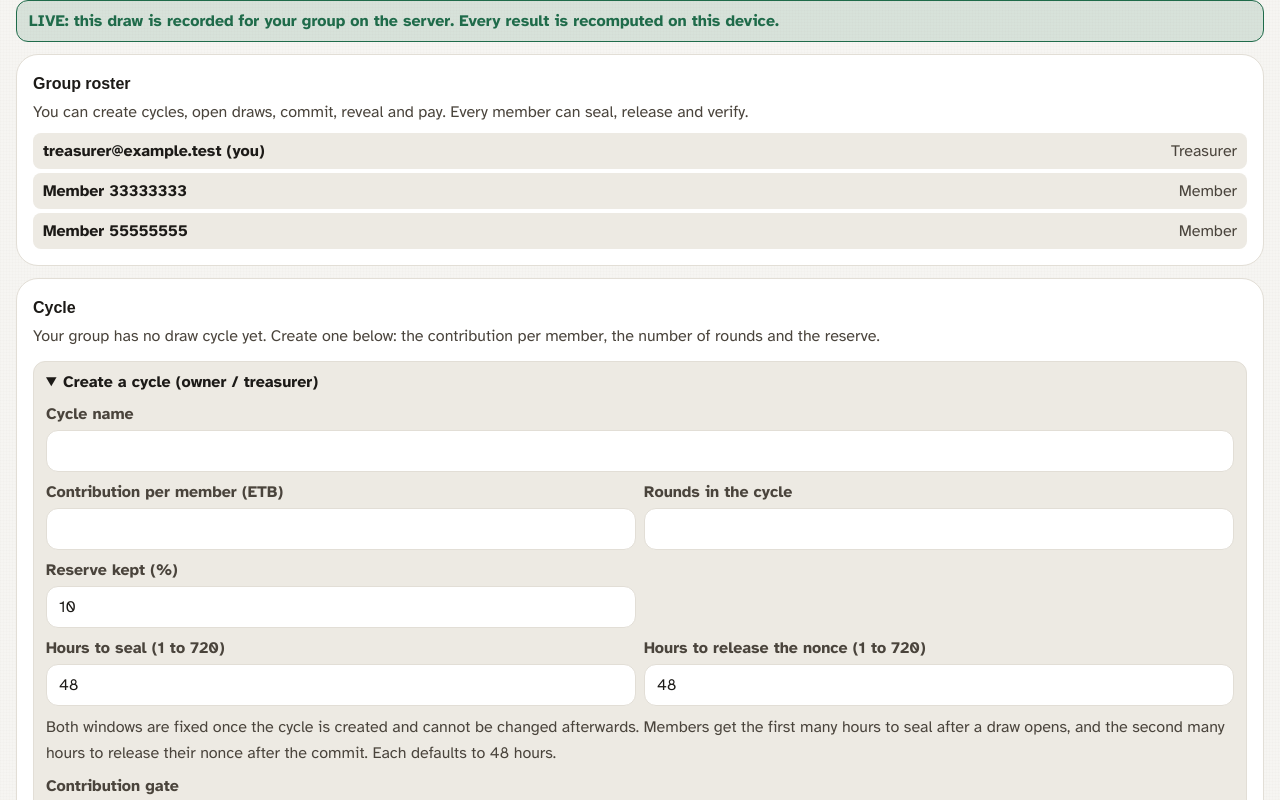
Test: signed in: cycles › lets the treasurer create a cycle and shows its terms, with the pot computed by the server
expect the text with test id "cycle-none" shows "Your group has no draw cycle yet": met, box top-left (33, 326), bottom-right (880, 346)
In the field labelled "Cycle name": (640,451) top-left (46, 430), bottom-right (1234, 472), type "Meskerem equb"
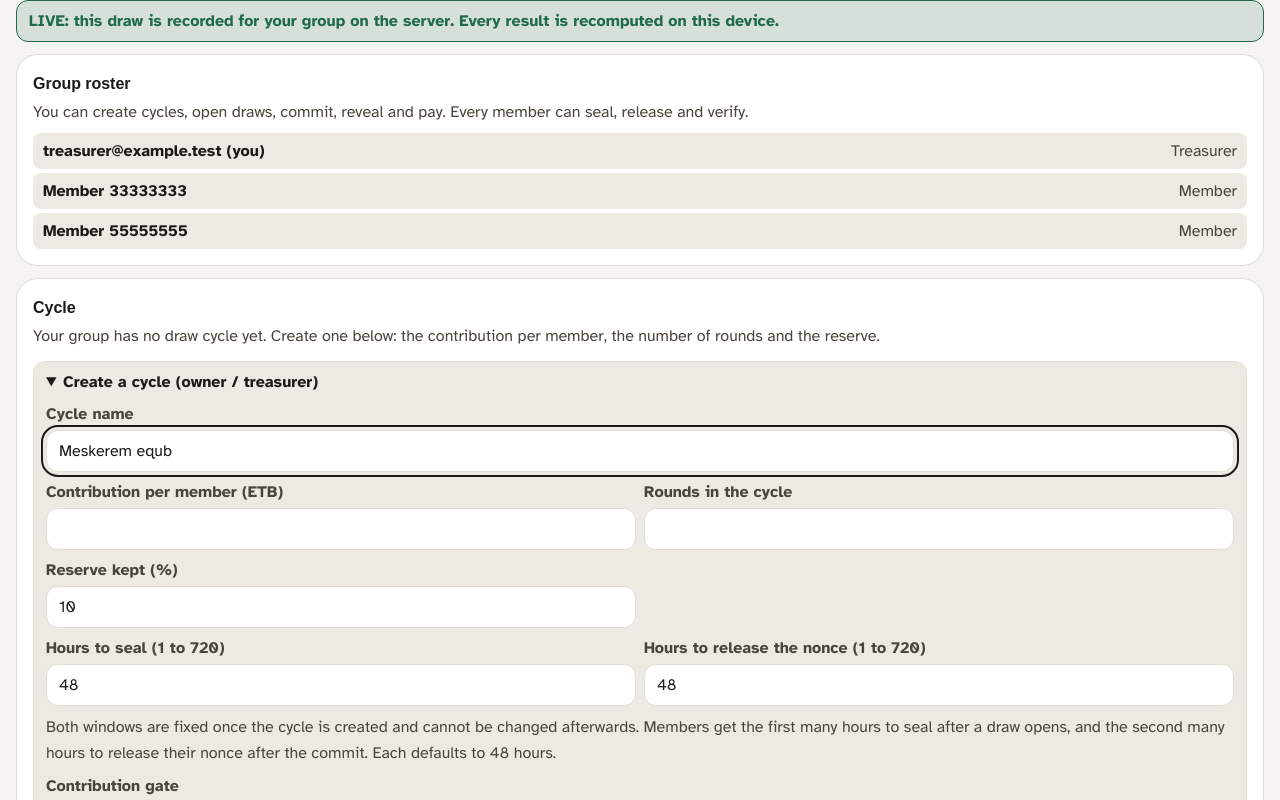
In the field labelled "Contribution per member (ETB)": (341,529) top-left (46, 508), bottom-right (636, 550), type "1000"
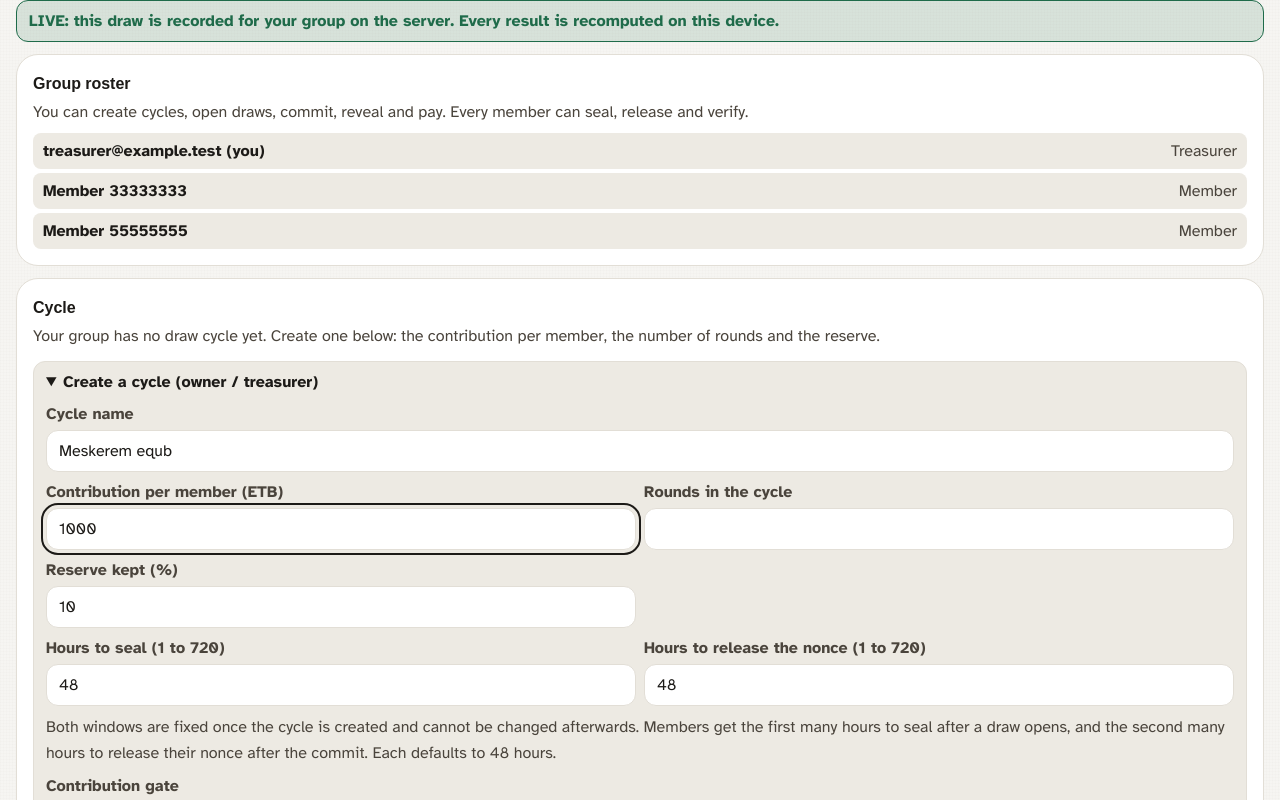
In the field labelled "Rounds in the cycle": (939,529) top-left (644, 508), bottom-right (1234, 550), type "3"
(page scrolled)
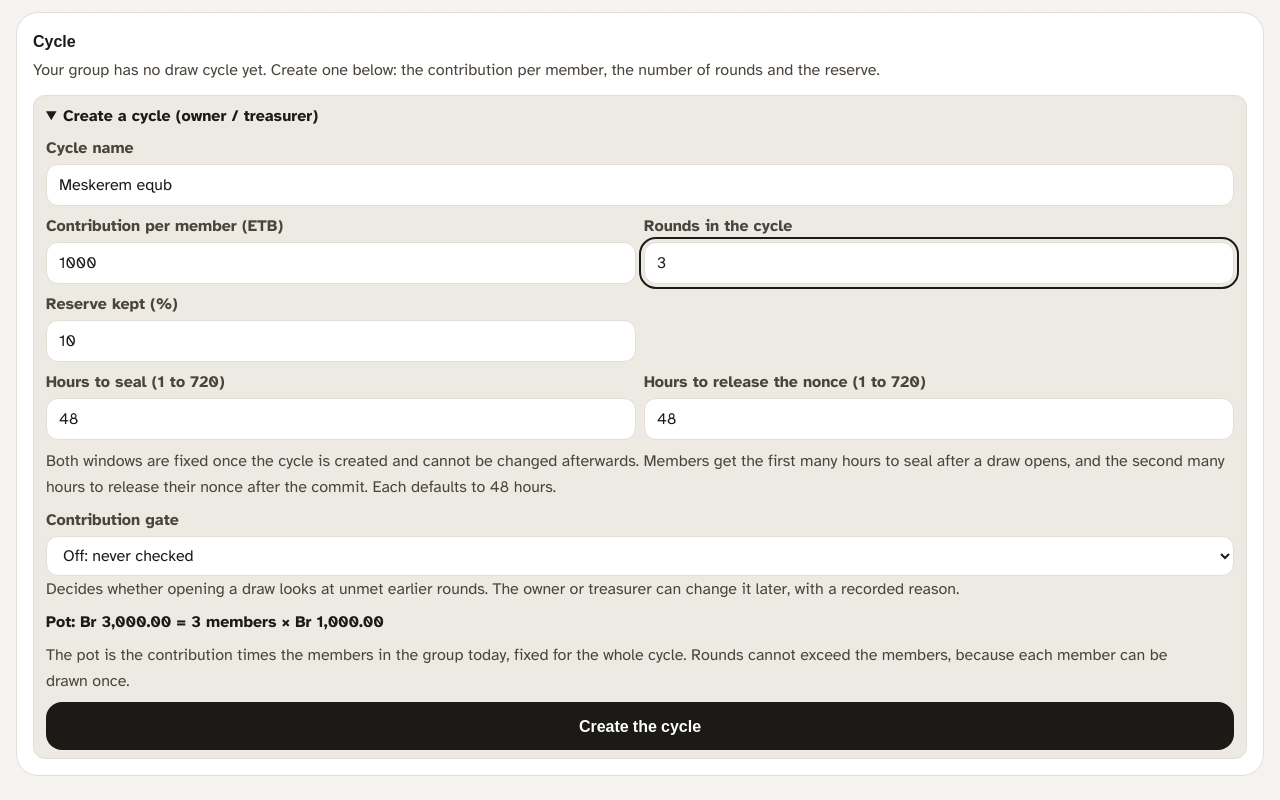
expect the text with test id "cycle-pot-preview" shows "Br 3,000.00 = 3 members × Br 1,000.00": met, box top-left (46, 612), bottom-right (384, 632)
Click the button "Create the cycle": (640,726) top-left (46, 702), bottom-right (1234, 750)
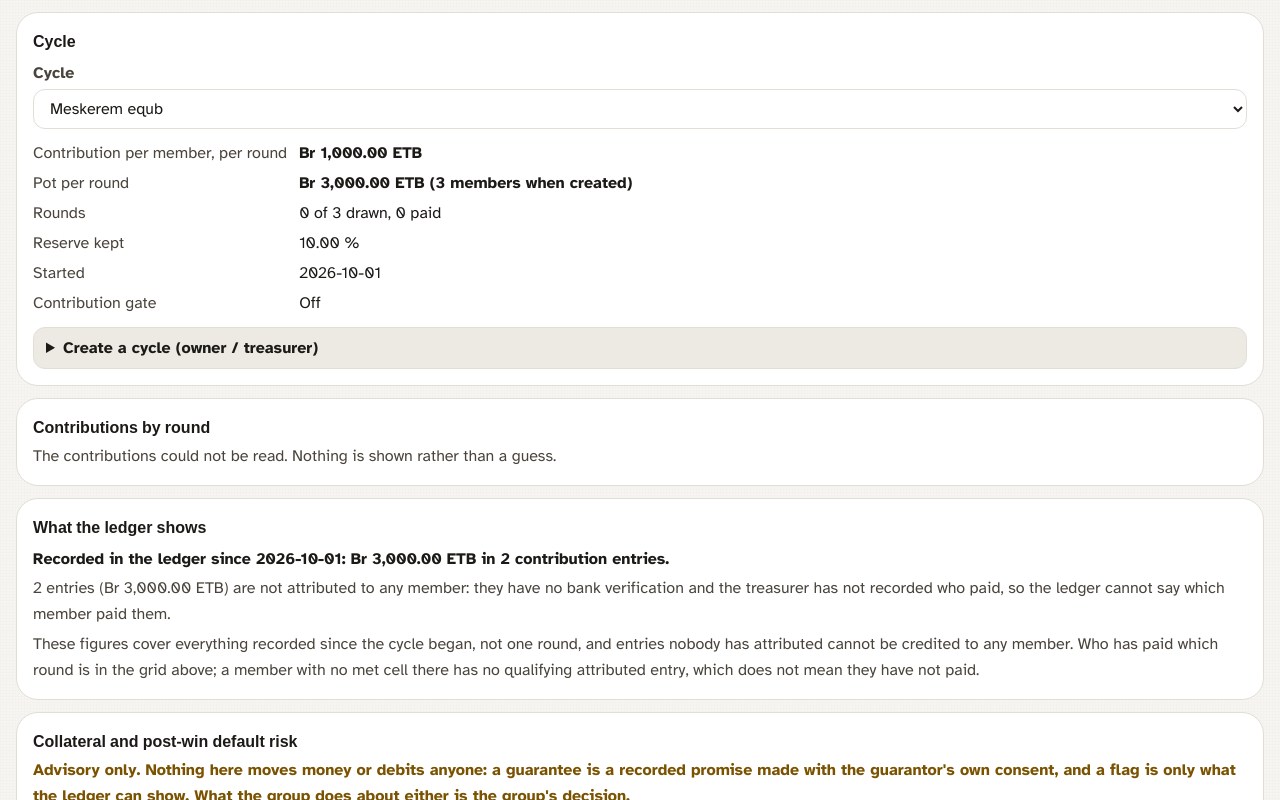
expect the text with test id "cycle-pot" shows "Br 3,000.00": met, box top-left (299, 173), bottom-right (390, 193)
expect the text with test id "cycle-each" shows "Br 1,000.00": met, box top-left (299, 143), bottom-right (422, 163)
expect the text with test id "cycle-pot" reads "Br 3,000.00 ETB (3 members when created)": met, box top-left (299, 173), bottom-right (632, 193)
